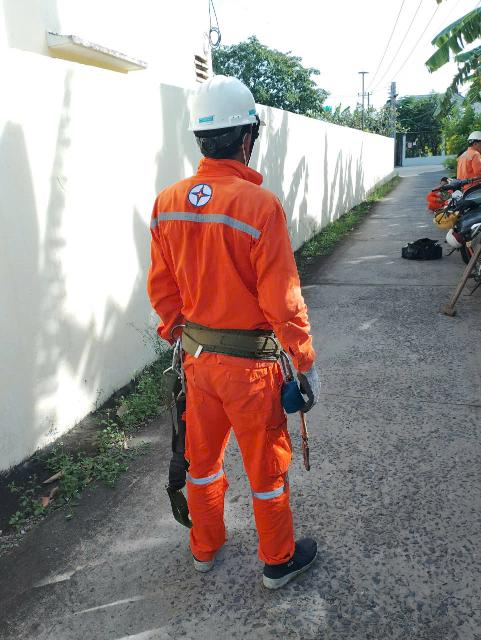gloves: (286, 350, 335, 414)
harness: (163, 310, 282, 372)
helmet: (179, 71, 267, 139)
shoes: (259, 530, 329, 589), (169, 518, 222, 579)
